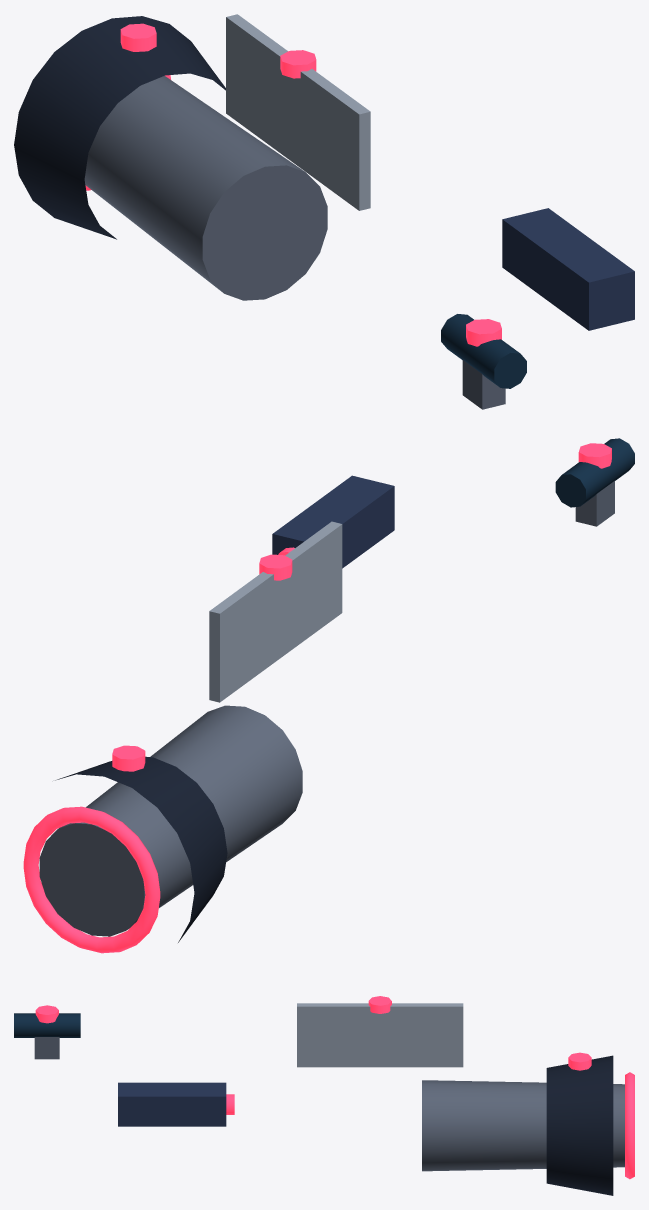
The model's file is tower_filament_optics_s6.glb.
The picture shows the model from 3 angles, top to bottom: view 1: azimuth 30°, elevation 25°; view 2: azimuth 150°, elevation 25°; view 3: azimuth 270°, elevation 25°; orthographic projection. The views are drawn at different scales.
Visible parts, largest first — view 1: filament_tube_ext, filament_lens_hood, filament_stab_fin, filament_rangefinder, filament_sight_glass, filament_sight_mount, filament_up_optics_l3_stud, filament_up_optics_l6_stud, filament_up_optics_l2_stud; view 2: filament_tube_ext, filament_stab_fin, filament_lens_hood, filament_tube_ext_ring, filament_rangefinder, filament_sight_glass, filament_sight_mount, filament_up_optics_l3_stud; view 3: filament_tube_ext, filament_stab_fin, filament_lens_hood, filament_rangefinder, filament_sight_glass, filament_tube_ext_ring, filament_sight_mount, filament_up_optics_l3_stud, filament_up_optics_l6_stud, filament_up_optics_l2_stud.
Boxes of the visible parts, <box> form: filament_tube_ext: <box>84,76,327,300</box>; filament_lens_hood: <box>14,16,225,239</box>; filament_stab_fin: <box>226,14,370,210</box>; filament_rangefinder: <box>502,208,634,330</box>; filament_sight_glass: <box>441,314,526,388</box>; filament_sight_mount: <box>462,360,505,409</box>; filament_up_optics_l3_stud: <box>120,23,156,51</box>; filament_up_optics_l6_stud: <box>280,50,316,78</box>; filament_up_optics_l2_stud: <box>466,319,501,346</box>; filament_tube_ext: <box>39,705,302,936</box>; filament_stab_fin: <box>209,521,342,702</box>; filament_lens_hood: <box>55,756,227,942</box>; filament_tube_ext_ring: <box>23,806,160,953</box>; filament_rangefinder: <box>272,475,394,568</box>; filament_sight_glass: <box>555,438,634,507</box>; filament_sight_mount: <box>575,481,614,526</box>; filament_up_optics_l3_stud: <box>112,745,145,771</box>; filament_tube_ext: <box>422,1080,624,1171</box>; filament_stab_fin: <box>297,1003,463,1067</box>; filament_lens_hood: <box>546,1055,613,1195</box>; filament_rangefinder: <box>118,1082,226,1126</box>; filament_sight_glass: <box>14,1013,80,1037</box>; filament_tube_ext_ring: <box>625,1072,634,1179</box>; filament_sight_mount: <box>34,1037,59,1059</box>; filament_up_optics_l3_stud: <box>568,1052,591,1070</box>; filament_up_optics_l6_stud: <box>368,996,391,1013</box>; filament_up_optics_l2_stud: <box>35,1005,58,1023</box>.
Bounding box in the file's own units: 0.39 × 0.501 × 1.49.
